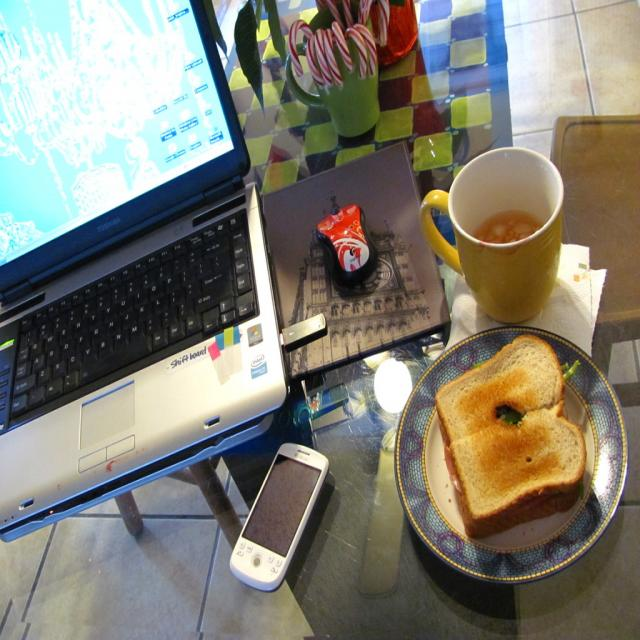Tea: (471, 209, 542, 240)
